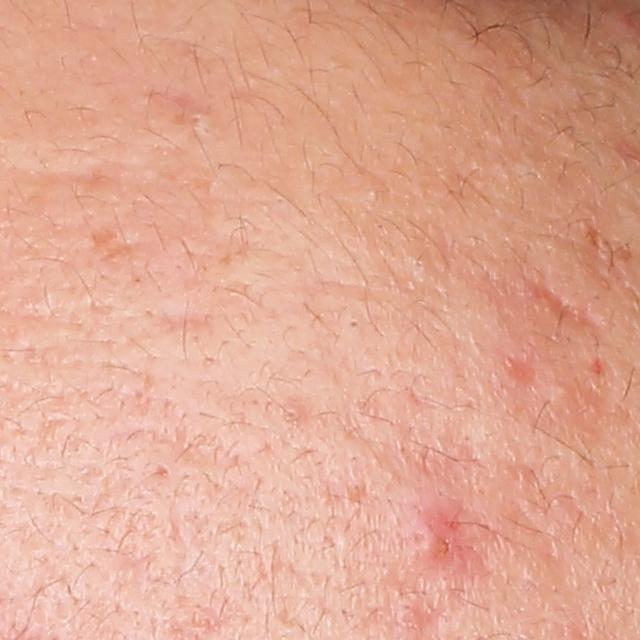atrophic_scar: (524, 274, 605, 332), (153, 292, 214, 341), (36, 159, 115, 191), (91, 224, 136, 268)
comedo: (282, 403, 302, 424), (363, 184, 384, 202), (346, 317, 361, 331)
